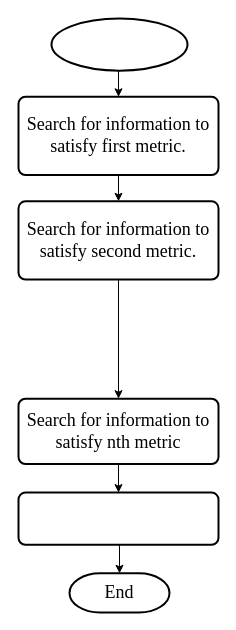
The diagram is 236 pixels wide and 630 high, and some of its shapes have lost their labels. The shapes that lost their labels are listed below. From the top down, each one's centre as x and y in pixels, then its label:
pixel 119 44: Start
pixel 118 518: Calculate score
